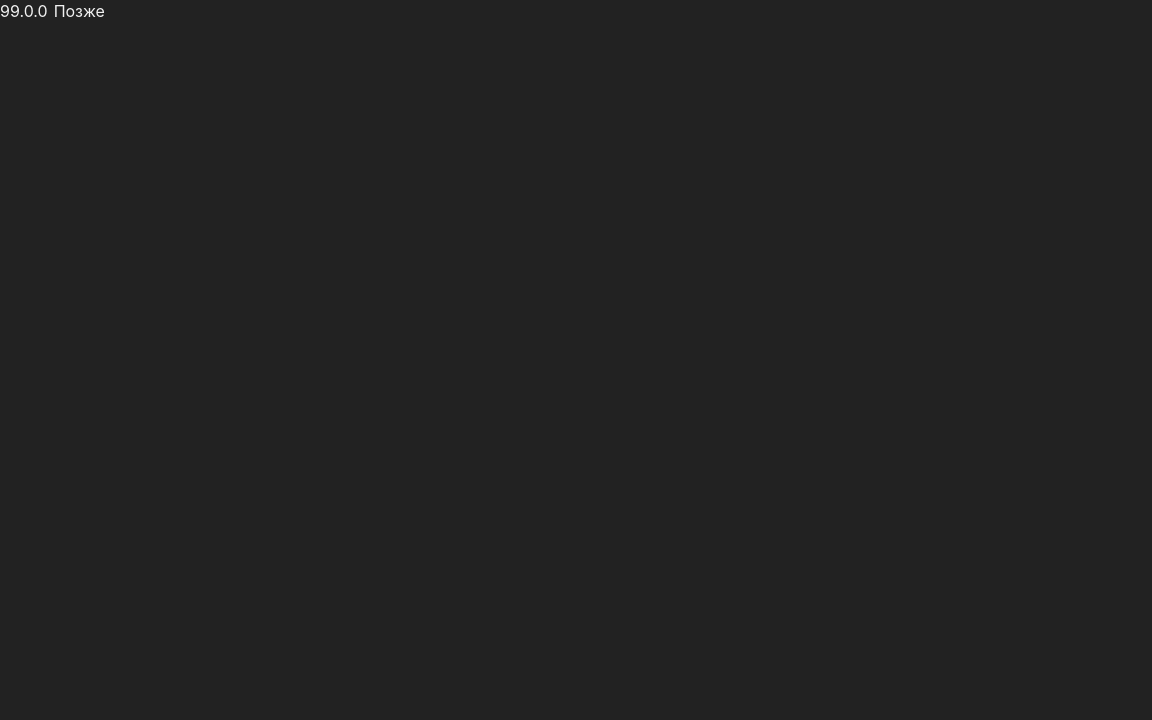
Test: automatic release notifications › remembers dismissal for this session but announces the next release
Later steps or results of the test are not shown.
Click the button "Позже" at coordinates (79, 11), box [48,0,111,22]
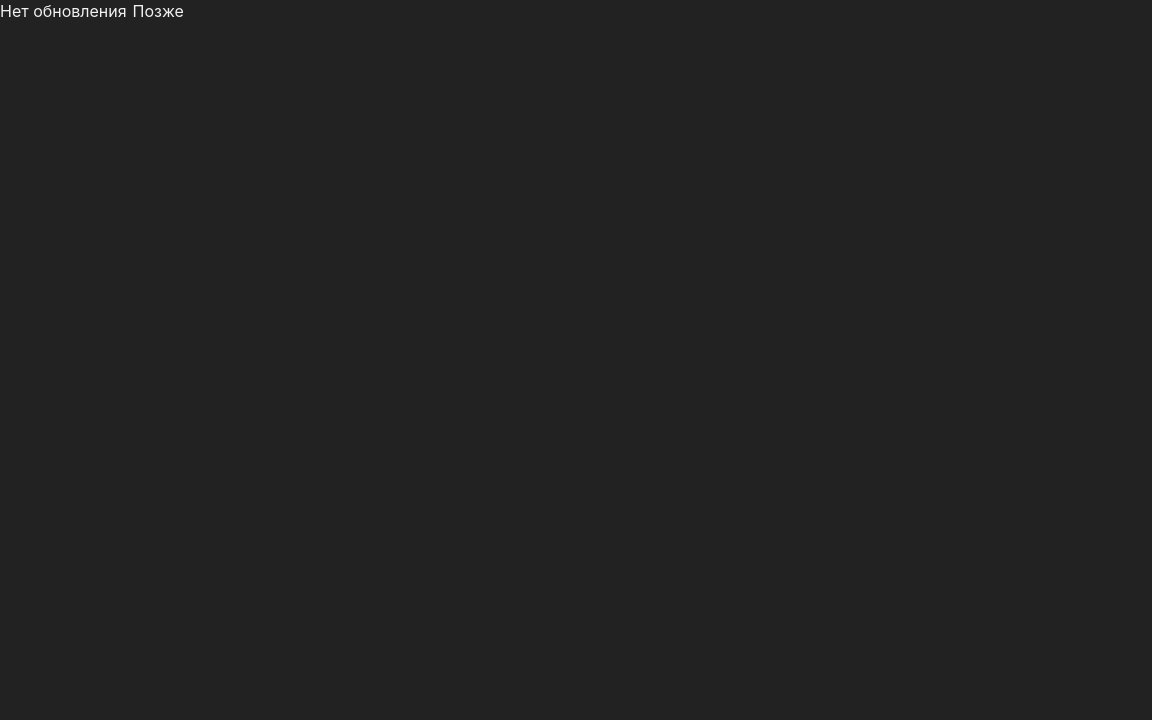
Now the text "Нет обновления" is shown, box [0,1,127,21]
